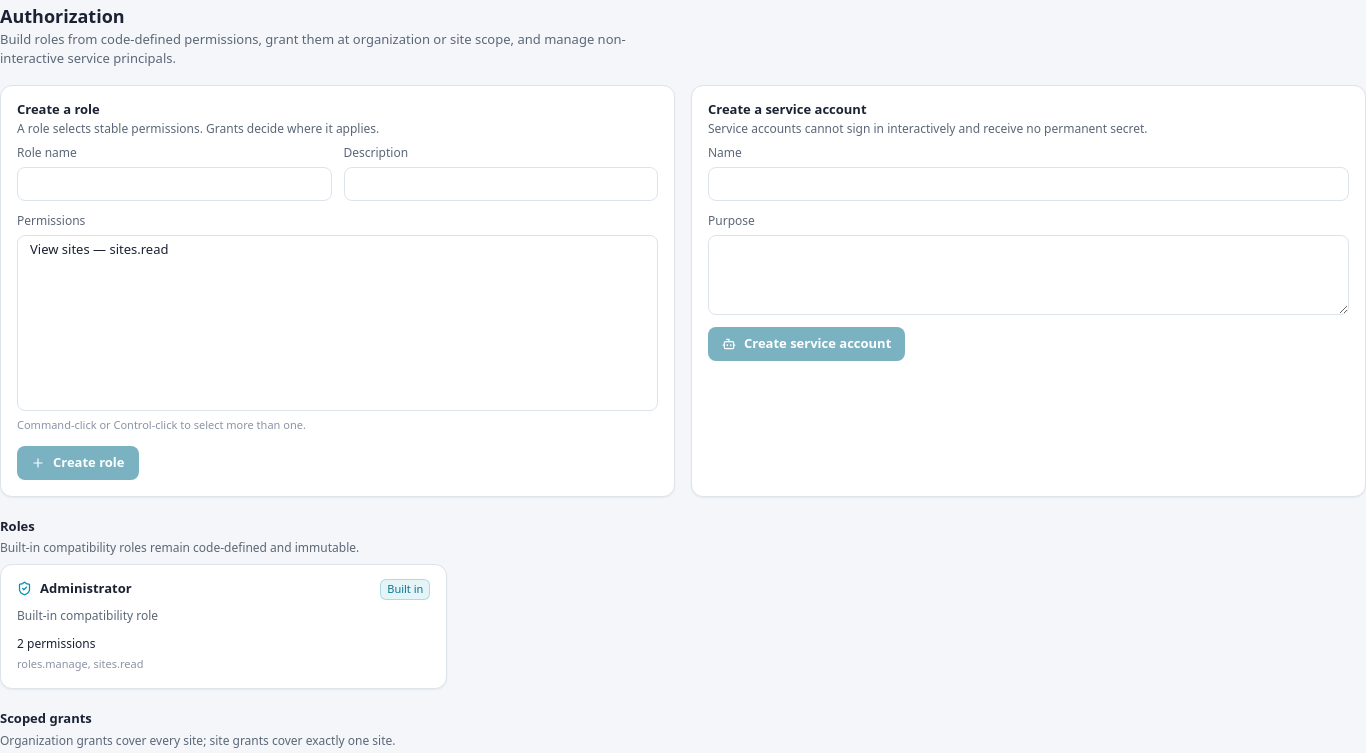
Test: renders code-defined roles and displays API token values only at creation
Expected: the text "Administrator" is shown, [17,579,132,598]
Expected: the option "View sites" is shown, [30,240,649,258]
In the field labelled "Role name": [174, 184] box [17,167,332,201], type "Site Reader"
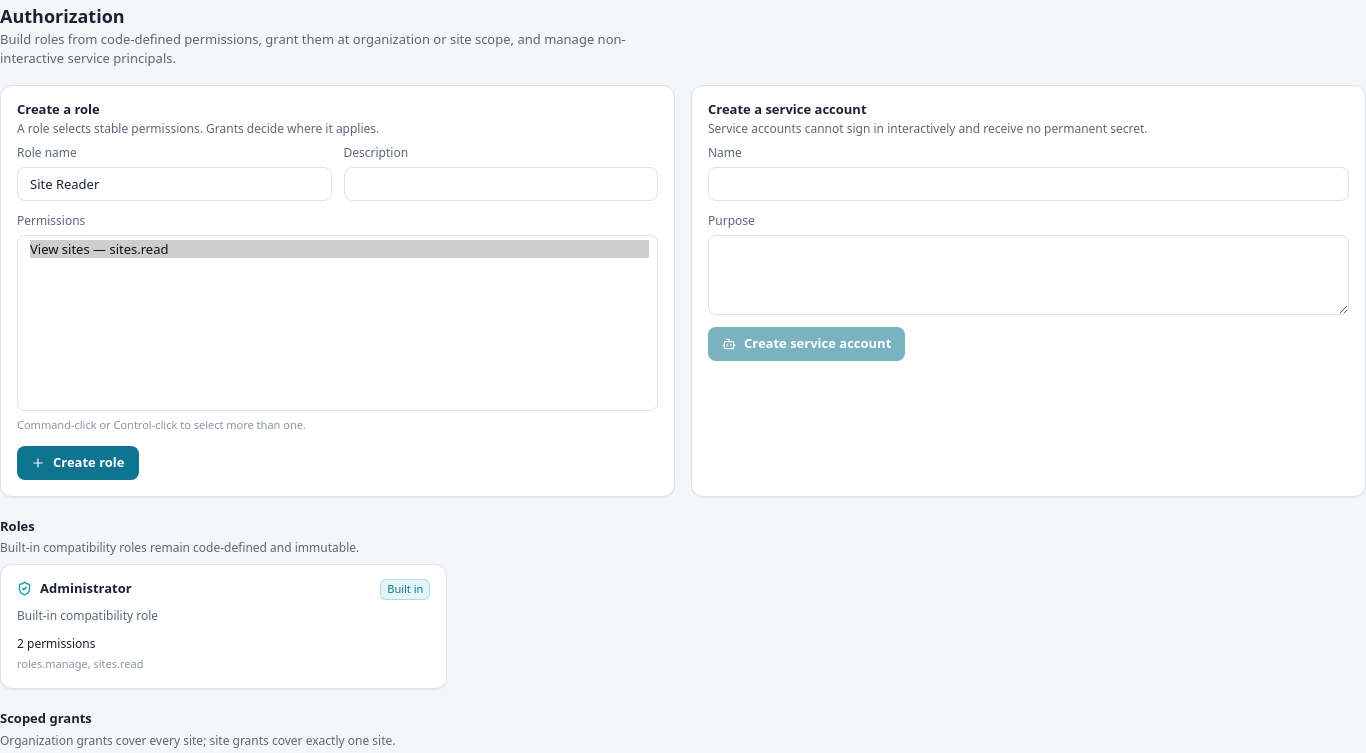
Select "View sites — sites.read" in the dropdown: [338, 323] box [17,235,658,411]
Click the button "Create role": [78, 462] box [17,446,138,480]
(page scrolled)
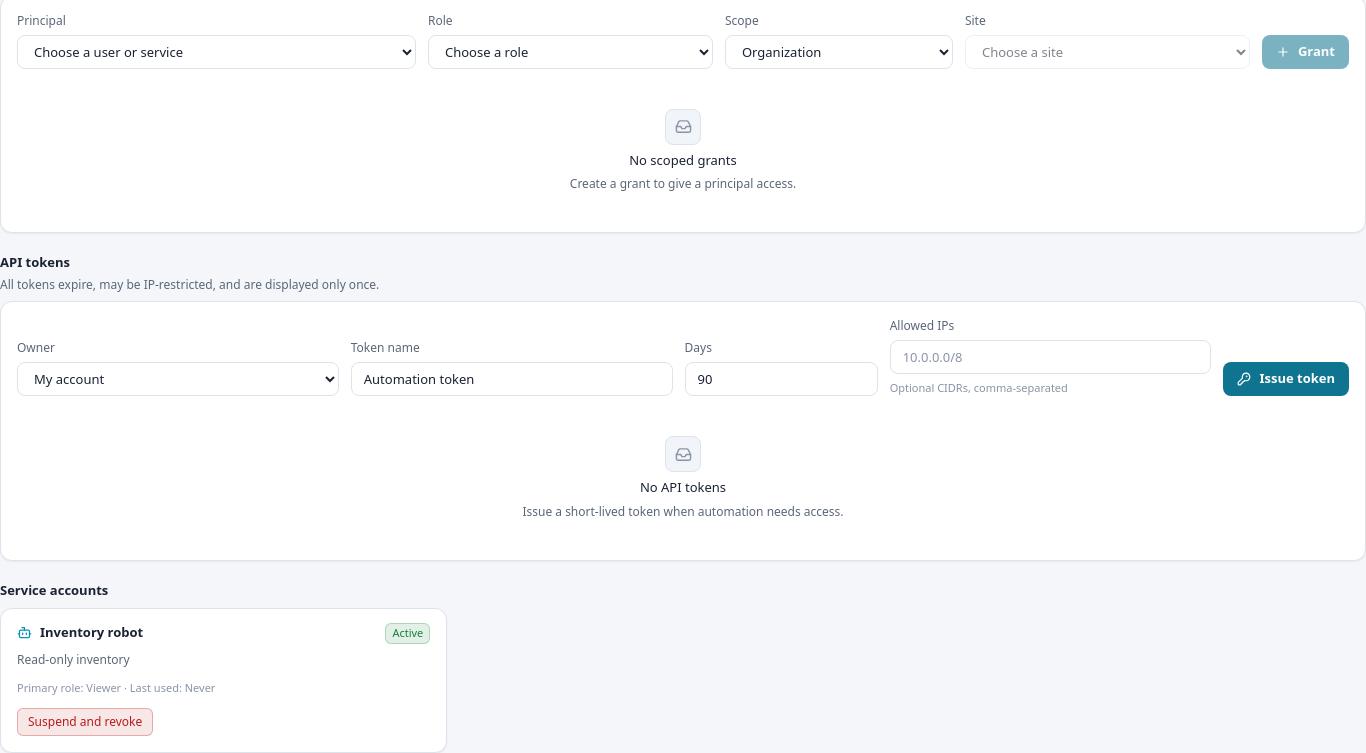
Click the button "Issue token": [1286, 379] box [1223,362,1349,396]
(page scrolled)
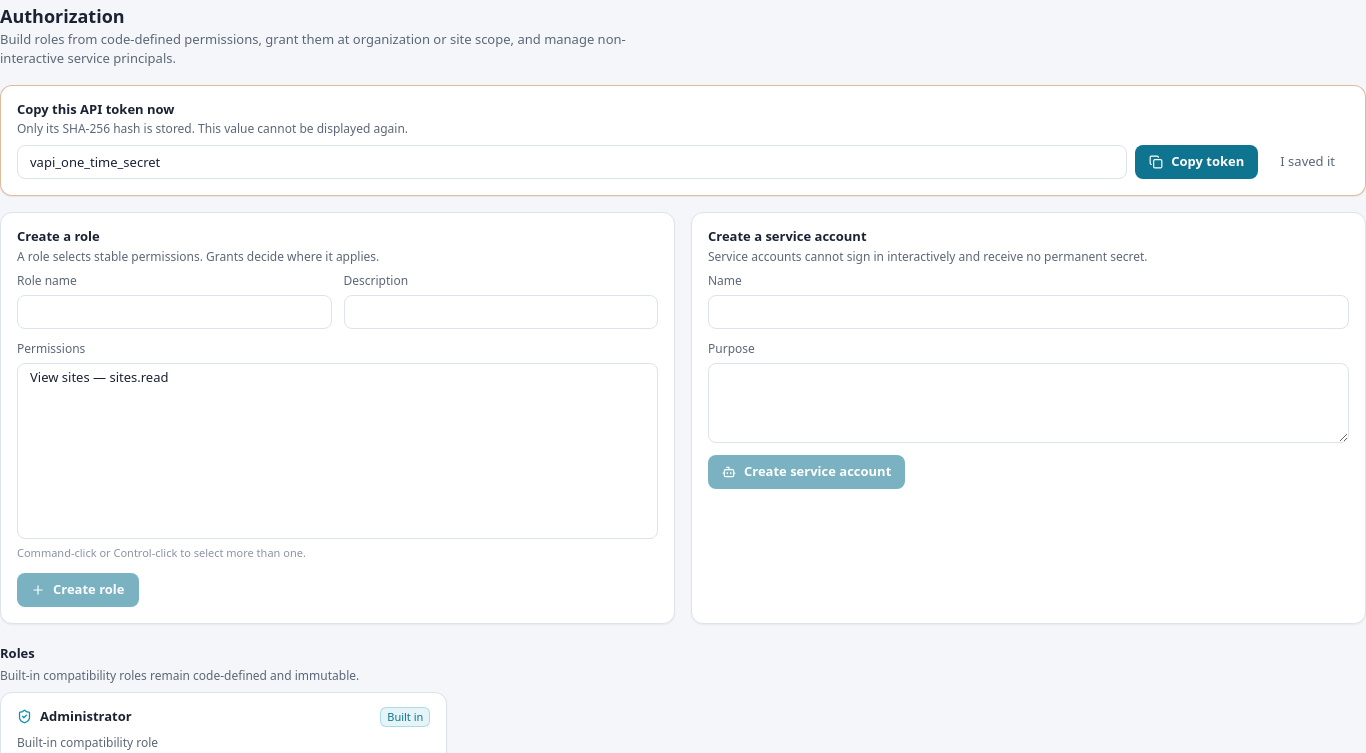
Result: the field showing "vapi_one_time_secret" is shown at [17,145,1127,179]
Result: the text "Only its SHA-256 hash is stored" is shown at [17,120,408,137]
